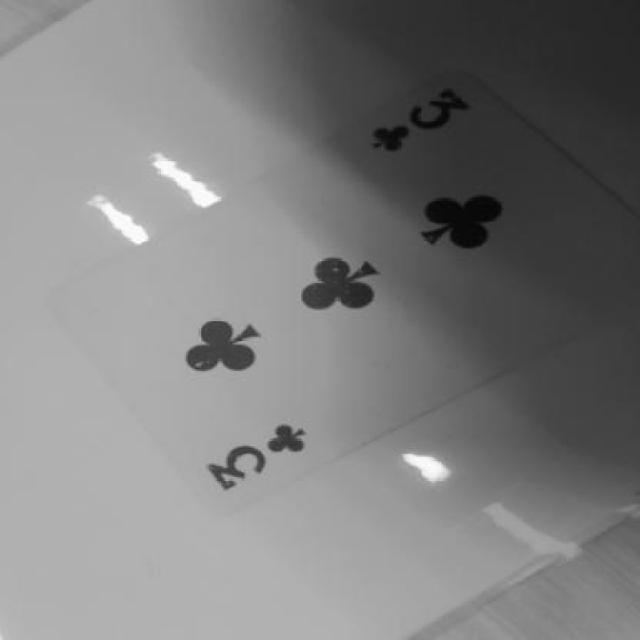3C: (197, 410, 332, 496), (356, 82, 490, 162)
